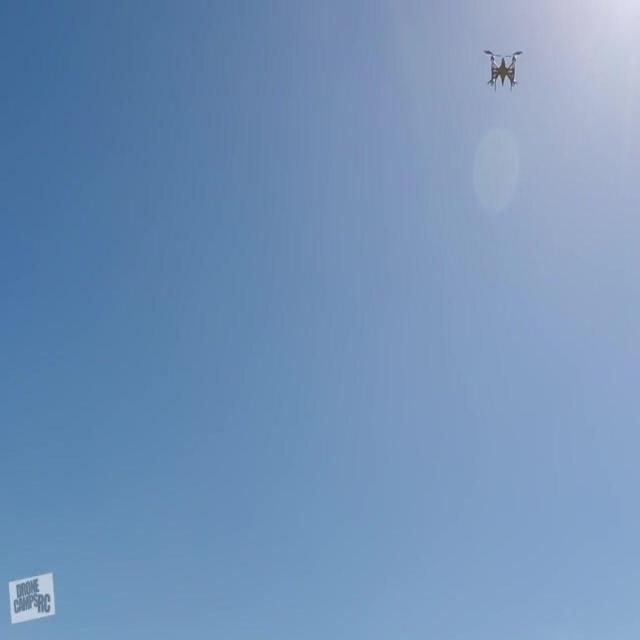UAV: (484, 50, 523, 92)
